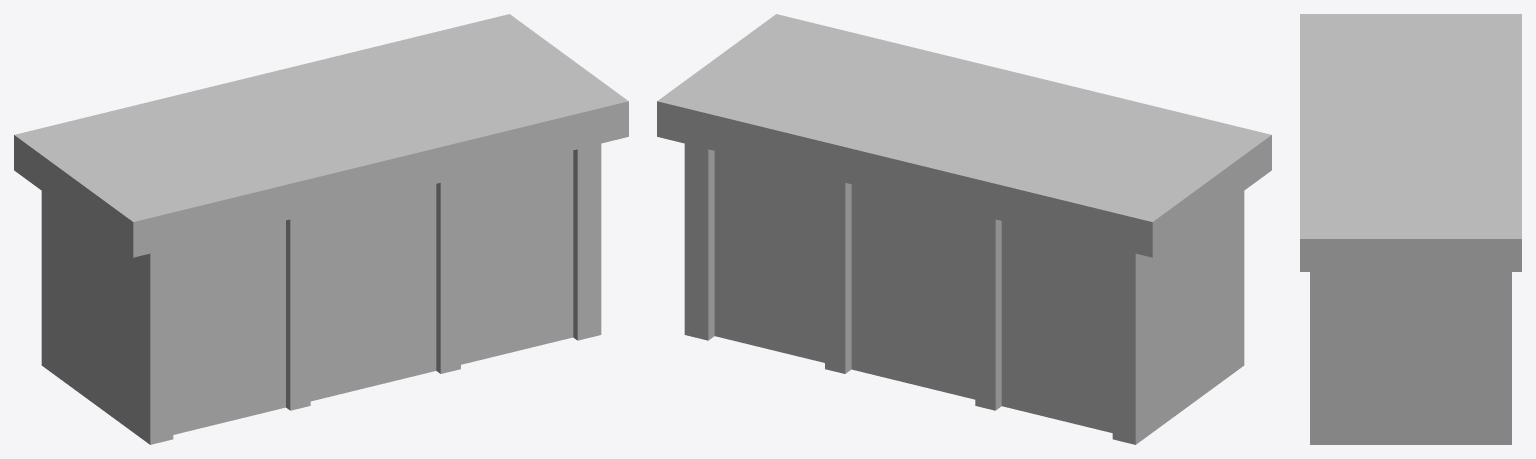
The model's file is MesaLobby.fbx.
3 views of the same model, side by side, from view 1: azimuth 30°, elevation 25°; view 2: azimuth 150°, elevation 25°; view 3: azimuth 270°, elevation 25° (orthographic). The views are drawn at different scales.
Visible parts, largest first — view 1: Cube.002; view 2: Cube.002; view 3: Cube.002.
Part boxes in pixels (bbox=[...]): Cube.002: bbox=[14, 14, 628, 444]; Cube.002: bbox=[657, 14, 1271, 444]; Cube.002: bbox=[1300, 14, 1521, 444].
Size of the model in its own units: 527 by 236 by 220.
